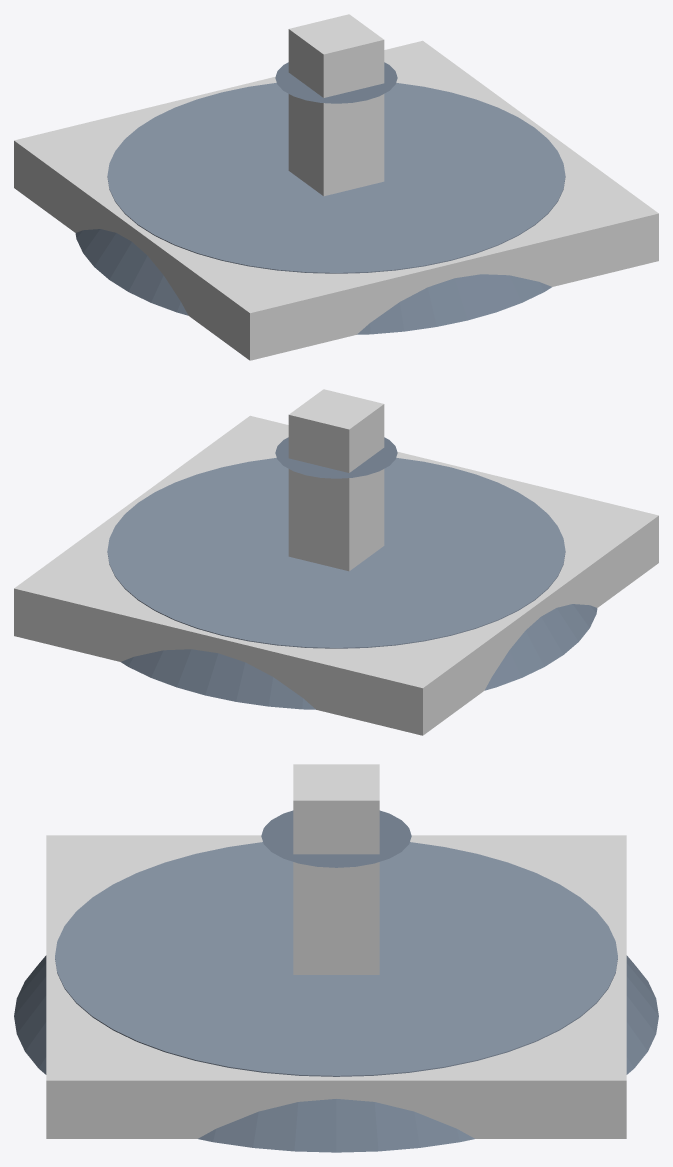
Rendered from fountain.glb.
3 views of the same model, one above another, from view 1: azimuth 30°, elevation 25°; view 2: azimuth 150°, elevation 25°; view 3: azimuth 270°, elevation 25° (orthographic). The views are drawn at different scales.
Parts seen in each view (by area): view 1: Fountain, COL_Basin, COL_Pillar; view 2: Fountain, COL_Basin, COL_Pillar; view 3: Fountain, COL_Basin, COL_Pillar.
Boxes of the visible parts, x1=… form: Fountain: x1=75, y1=62, x2=565, y2=334; COL_Basin: x1=14, y1=40, x2=658, y2=360; COL_Pillar: x1=288, y1=14, x2=384, y2=196; Fountain: x1=107, y1=437, x2=597, y2=709; COL_Basin: x1=14, y1=415, x2=658, y2=735; COL_Pillar: x1=288, y1=389, x2=384, y2=571; Fountain: x1=14, y1=810, x2=658, y2=1152; COL_Basin: x1=46, y1=835, x2=626, y2=1138; COL_Pillar: x1=293, y1=764, x2=379, y2=974.
Bounding box in the file's own units: 6 × 2.4 × 6.
